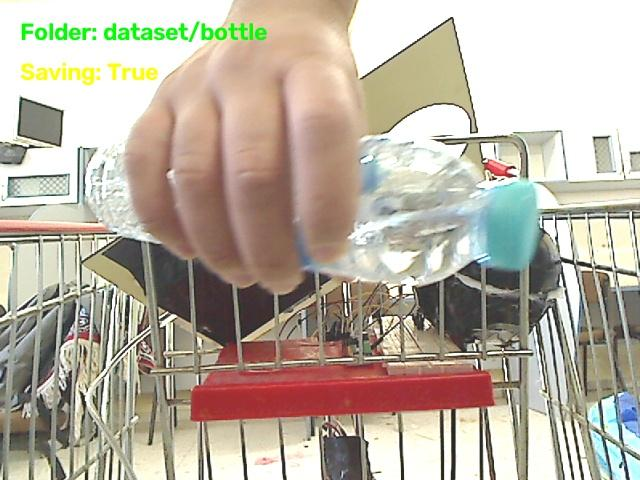Bottle: (301, 136, 539, 283), (90, 150, 156, 241)
can: (218, 46, 303, 284), (284, 55, 359, 273), (170, 72, 241, 279), (124, 77, 195, 258), (291, 211, 332, 274)
